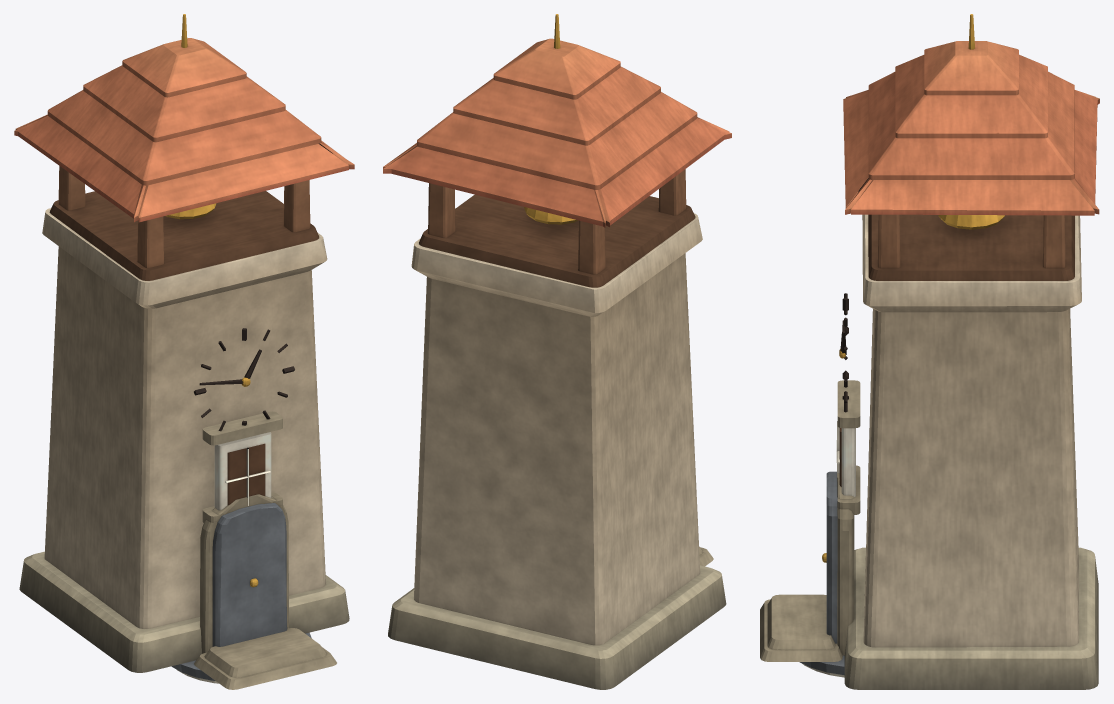
The model's file is clock_house.glb.
3 renders of one model, left to right at view 1: azimuth 30°, elevation 25°; view 2: azimuth 150°, elevation 25°; view 3: azimuth 270°, elevation 25°, orthographic. The views are drawn at different scales.
Visible parts, largest first — view 1: ClockHouse; view 2: ClockHouse; view 3: ClockHouse.
Boxes of the visible parts, x1,y1,x2,y2 form: ClockHouse: [14, 14, 354, 689]; ClockHouse: [383, 14, 731, 689]; ClockHouse: [760, 14, 1099, 689].
Bounding box in the file's own units: 2.61 × 6.78 × 3.29.
1 material, 1 textured.
